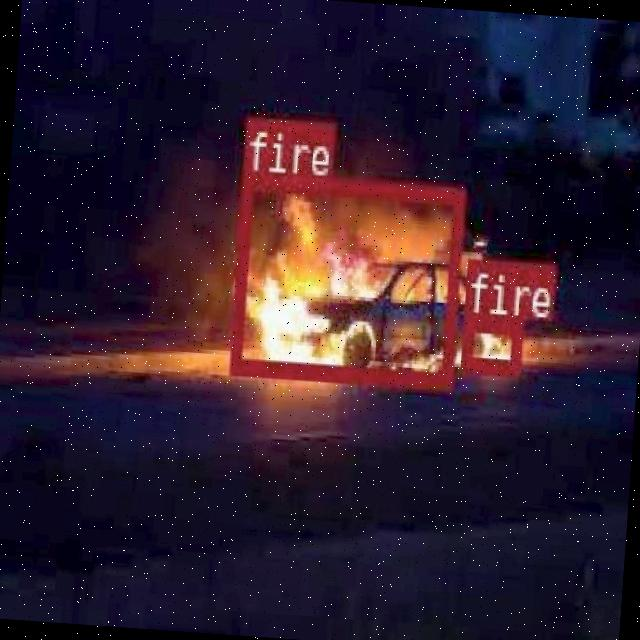fire: (227, 170, 462, 384), (459, 312, 521, 374)
